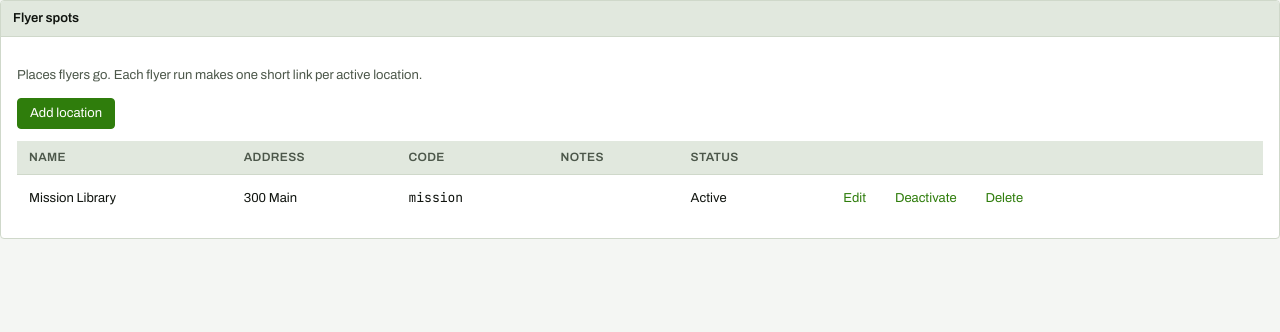
Test: OutreachLocations › styles a server error as an error and a success as a notice, in one always-mounted live region
This screenshot has width=1280, height=332.
Expected: the text "Mission Library" is shown, x1=17 y1=175 x2=232 y2=222
Click the button "Delete".
click(1004, 199)  # box x1=972 y1=183 x2=1036 y2=214
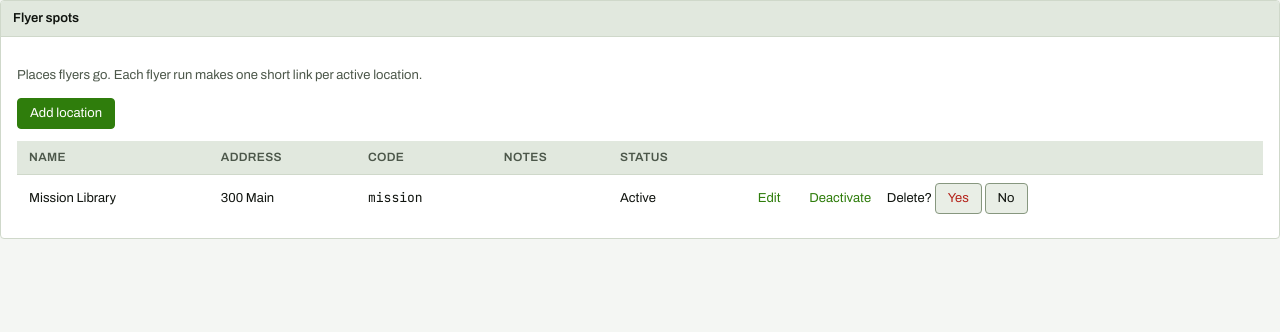
Click the button "Yes".
click(958, 199)  # box x1=935 y1=183 x2=982 y2=214
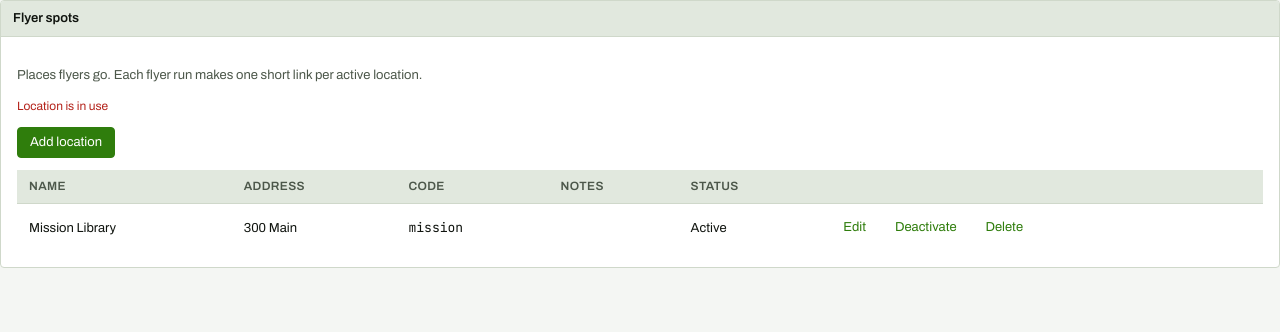
Now the message reads "Location is in use", box x1=17 y1=99 x2=108 y2=113
Click the button "Deactivate".
click(926, 228)  # box x1=882 y1=212 x2=970 y2=244
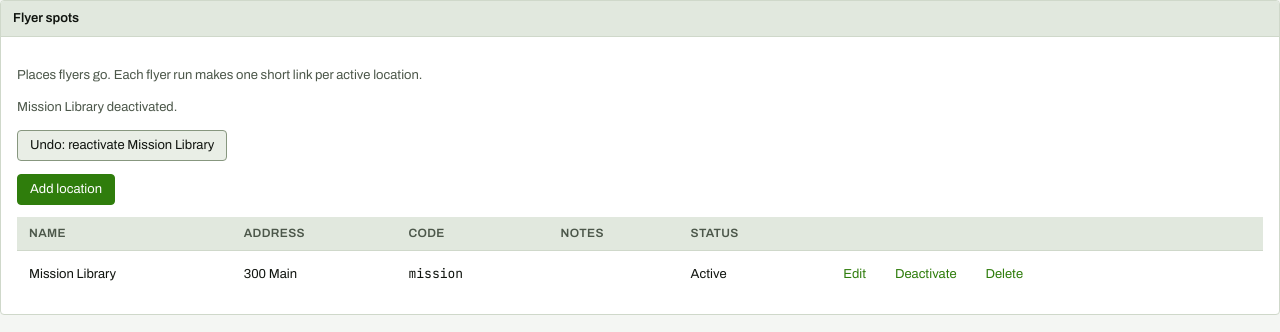
Now the message shows "deactivated", box x1=17 y1=100 x2=177 y2=114
